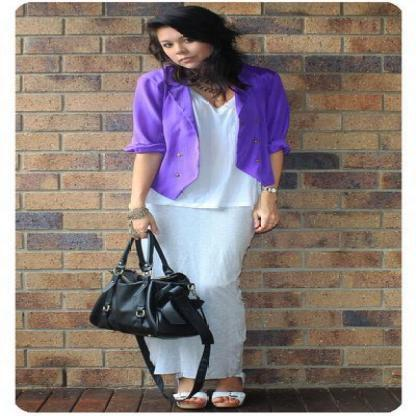bag: (90, 251, 218, 383)
jacket: (124, 62, 289, 200)
shirt: (146, 96, 256, 220)
shoe: (162, 382, 244, 416)
skirt: (137, 208, 253, 378)
